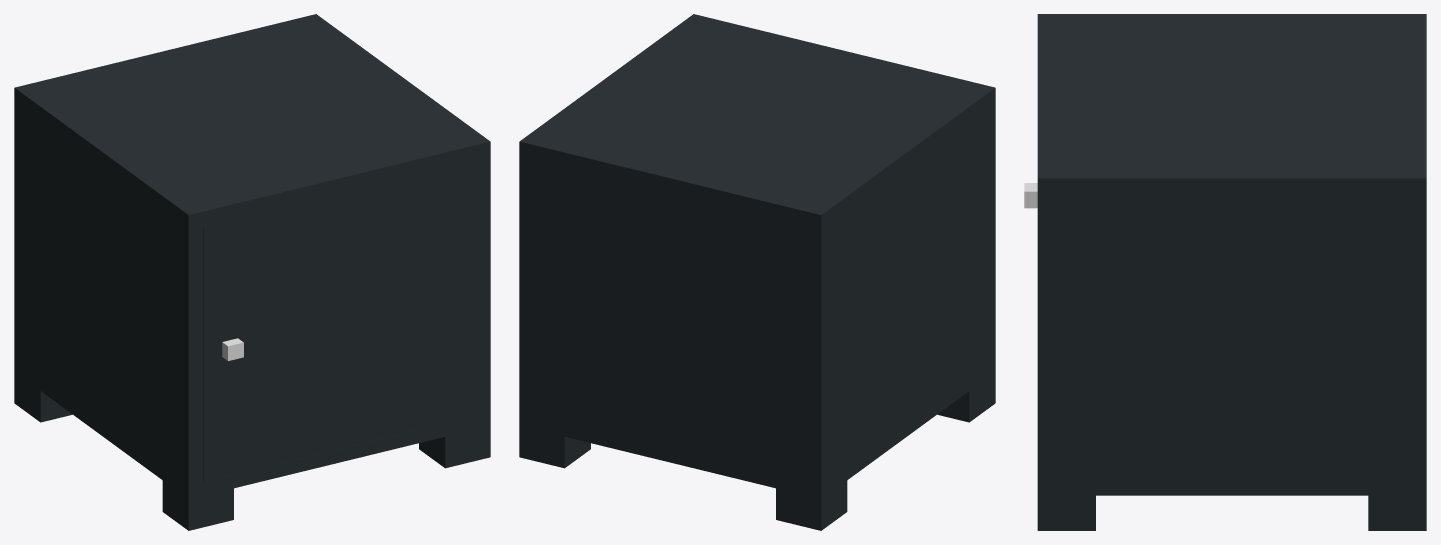
The model's file is nightstand.fbx.
3 views of the same model, side by side, from view 1: azimuth 30°, elevation 25°; view 2: azimuth 150°, elevation 25°; view 3: azimuth 270°, elevation 25° (orthographic). The views are drawn at different scales.
Parts seen in each view (by area): view 1: Cube, Cube.001; view 2: Cube; view 3: Cube.
Part boxes in pixels (x1,y1,x2,y2): Cube: [14, 14, 490, 530]; Cube.001: [203, 159, 475, 481]; Cube: [519, 14, 995, 530]; Cube: [1037, 14, 1426, 530].
Bounding box in the file's own units: 200 × 200 × 207.
